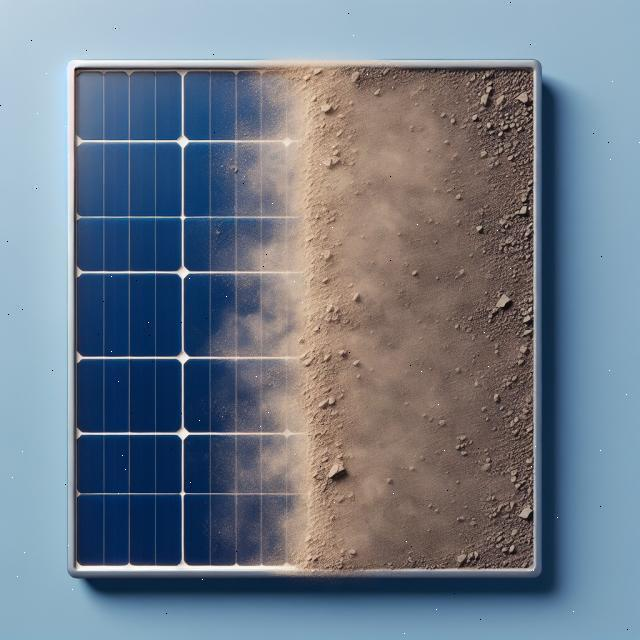Anomaly Solar Panel: (74, 68, 534, 571)
Surface Contaminant: (208, 68, 532, 569)
